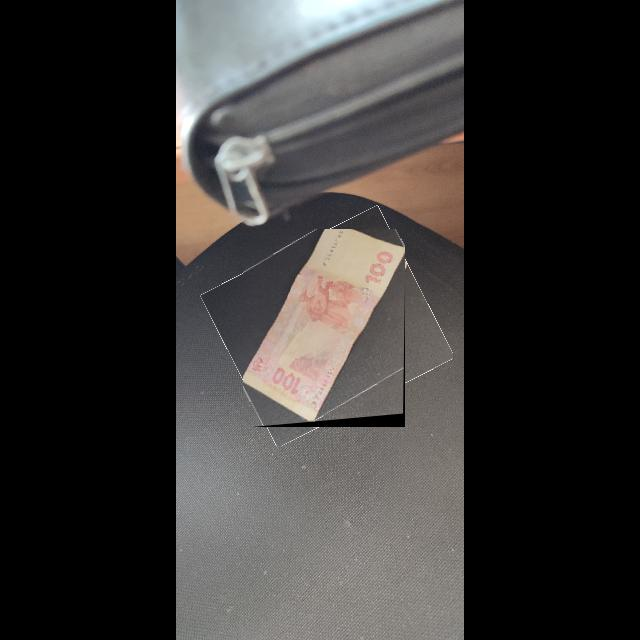100uah: (243, 229, 406, 423)
